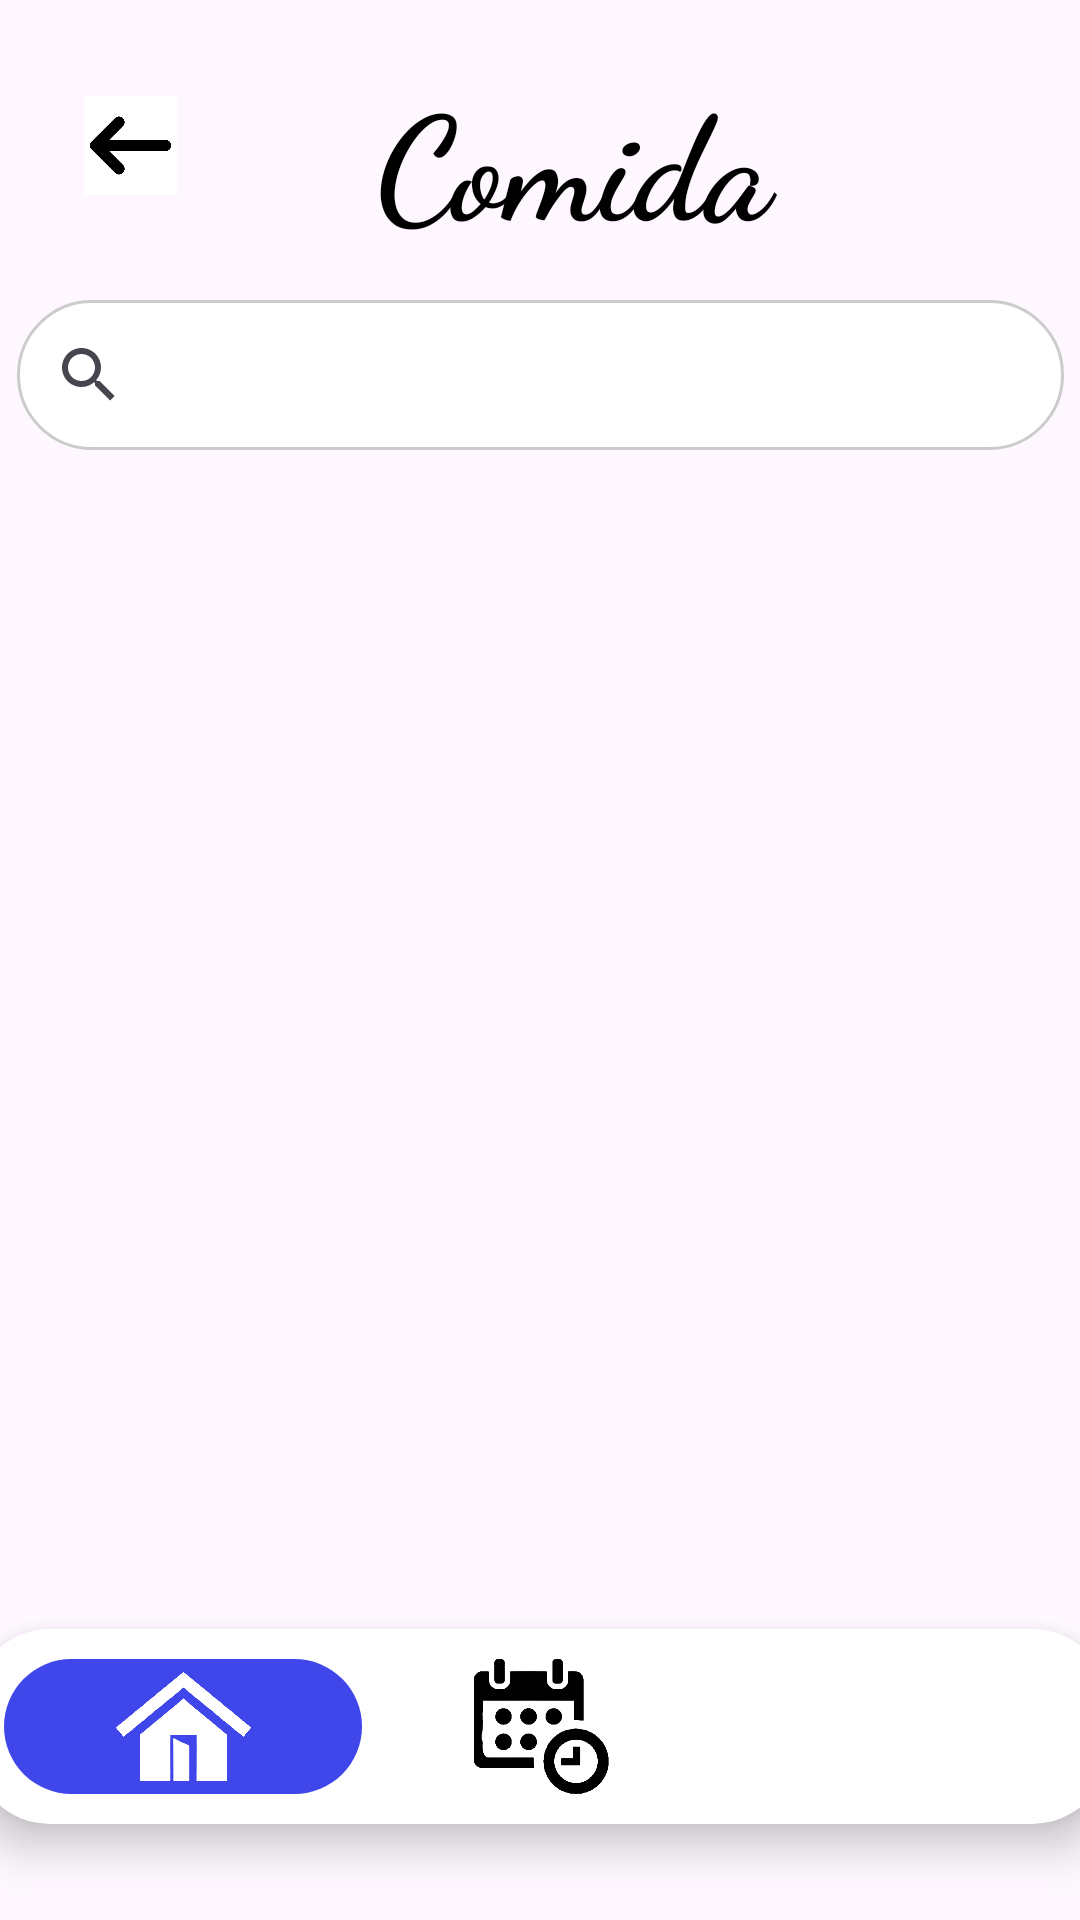

Icon bounding boxes for this 1080w x 1920h phone screenshot, format (x1, y1, x2, y2):
back: (90, 116, 171, 175)
casa: (4, 1659, 362, 1794)
